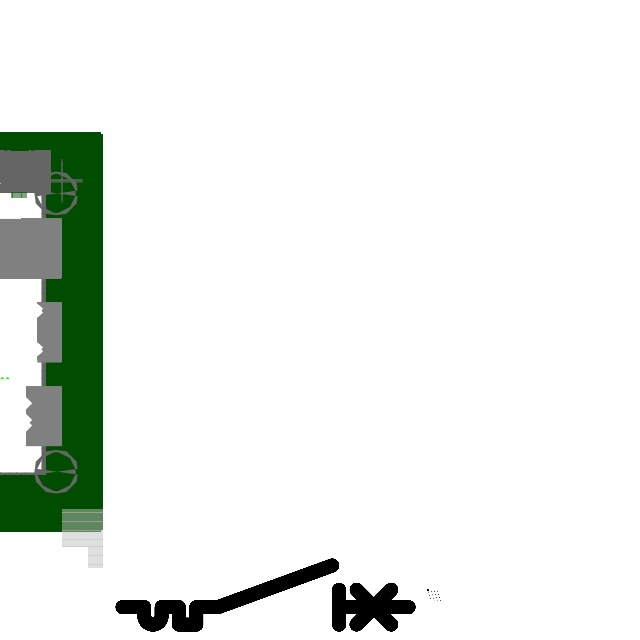interruptor_termomagnetico: (115, 558, 416, 632)
